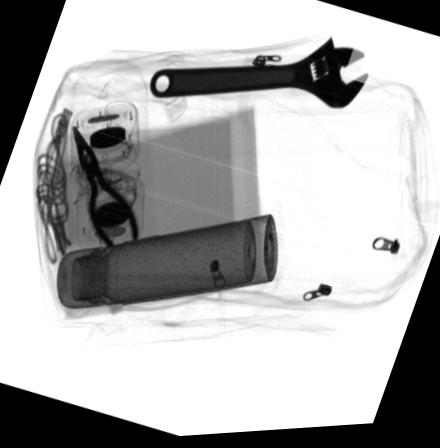Pliers: (70, 124, 140, 251)
Wrench: (149, 37, 370, 113)
